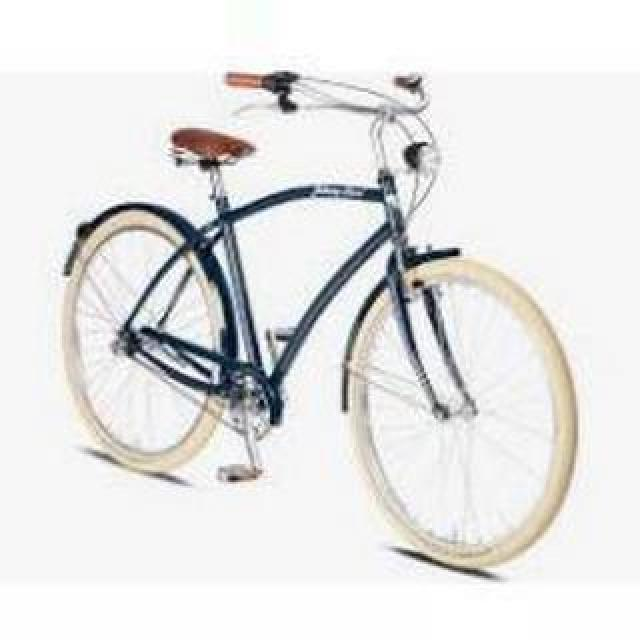Person: (57, 66, 601, 586)
